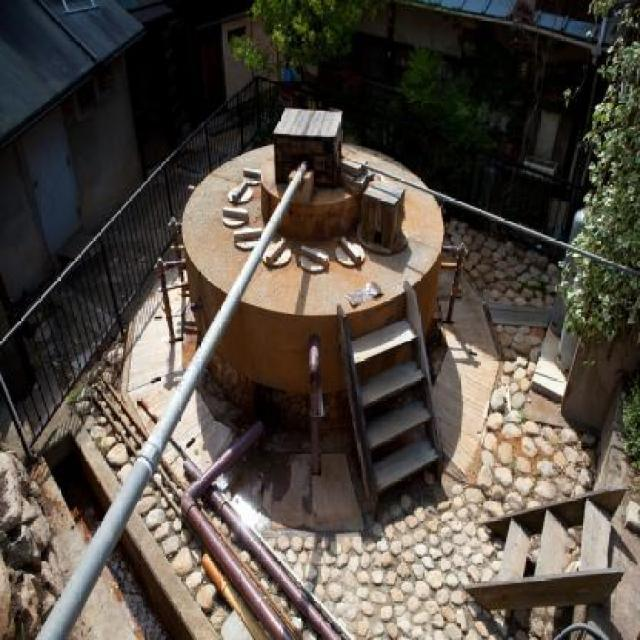stair: (348, 315, 438, 497), (497, 497, 612, 580)
